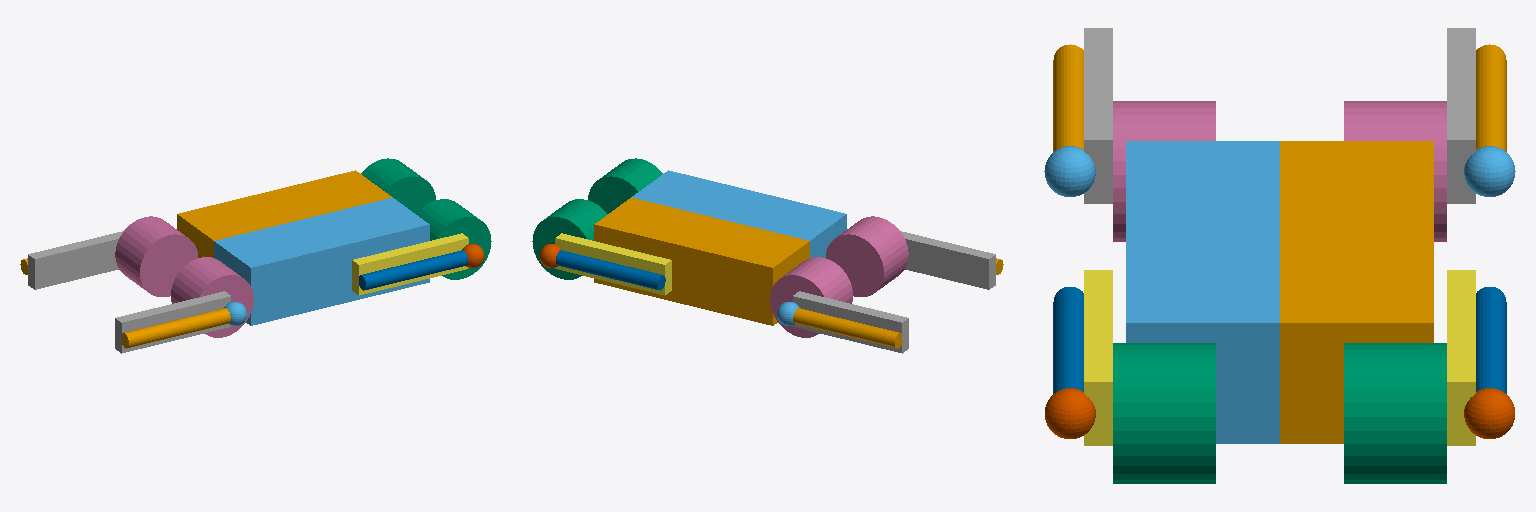
--- Facts derived from the render (not from the file) ---
The picture shows the robot from 3 angles, left to right: view 1: azimuth 30°, elevation 25°; view 2: azimuth 150°, elevation 25°; view 3: azimuth 270°, elevation 25°; orthographic projection.
Model spirit with 19 links and 18 joints (13 revolute, 5 fixed), rooted at body, posed every joint at zero.
Visible links, largest first — view 1: body2, body, hip1, upper1, hip3, upper2, upper3, hip2, hip0, lower2, lower3; view 2: body, body2, hip3, upper3, hip1, upper0, upper1, hip0, hip2, lower0, lower1; view 3: body, body2, hip0, hip2, hip1, hip3, upper0, upper2, upper1, upper3, lower1, lower3 (+6 smaller).
Boxes of the visible links, box(x1,y1,x2,y2) form: body2: box(214, 197, 429, 325); body: box(177, 170, 391, 257); hip1: box(115, 216, 197, 296); upper1: box(28, 231, 123, 289); hip3: box(171, 257, 253, 337); upper2: box(352, 233, 468, 295); upper3: box(115, 291, 230, 353); hip2: box(416, 199, 491, 279); hip0: box(361, 158, 435, 213); lower2: box(359, 250, 467, 290); lower3: box(121, 308, 230, 348); body: box(594, 197, 809, 325); body2: box(632, 170, 846, 257); hip3: box(826, 216, 908, 296); upper3: box(900, 231, 995, 289); hip1: box(770, 257, 852, 337); upper0: box(555, 233, 671, 295); upper1: box(793, 291, 908, 353); hip0: box(532, 199, 607, 279); hip2: box(588, 158, 662, 213); lower0: box(556, 250, 665, 290); lower1: box(793, 308, 902, 348); body: box(1280, 141, 1433, 443); body2: box(1126, 141, 1279, 443); hip0: box(1344, 343, 1446, 483); hip2: box(1113, 343, 1215, 483); hip1: box(1344, 101, 1446, 241); hip3: box(1113, 101, 1215, 241); upper0: box(1447, 270, 1475, 445); upper2: box(1084, 270, 1112, 445); upper1: box(1447, 28, 1475, 203); upper3: box(1084, 28, 1112, 203); lower1: box(1476, 44, 1506, 151); lower3: box(1053, 44, 1083, 151).
Size in the robot's own frame: 0.706 by 0.366 by 0.11 metres.
Geometry: primitives only (box / cylinder / sphere), no mesh files.

The robot description file, URDF, robot "spirit":
<?xml version="1.0" encoding="utf-8"?>
<!-- =================================================================================== -->
<!-- |    This document was autogenerated by xacro from xacro/spine_robot_alt.urdf.xacro | -->
<!-- |    EDITING THIS FILE BY HAND IS NOT RECOMMENDED                                 | -->
<!-- =================================================================================== -->
<!-- 
MIT License (modified)
Copyright (c) 2020 Ghost Robotics
Authors:
Avik De <[email redacted]>
Tom Jacobs <[email redacted]>
Permission is hereby granted, free of charge, to any person obtaining a copy
of this **file** (the "Software"), to deal
in the Software without restriction, including without limitation the rights
to use, copy, modify, merge, publish, distribute, sublicense, and/or sell
copies of the Software, and to permit persons to whom the Software is
furnished to do so, subject to the following conditions:
The above copyright notice and this permission notice shall be included in all
copies or substantial portions of the Software.
THE SOFTWARE IS PROVIDED "AS IS", WITHOUT WARRANTY OF ANY KIND, EXPRESS OR
IMPLIED, INCLUDING BUT NOT LIMITED TO THE WARRANTIES OF MERCHANTABILITY,
FITNESS FOR A PARTICULAR PURPOSE AND NONINFRINGEMENT. IN NO EVENT SHALL THE
AUTHORS OR COPYRIGHT HOLDERS BE LIABLE FOR ANY CLAIM, DAMAGES OR OTHER
LIABILITY, WHETHER IN AN ACTION OF CONTRACT, TORT OR OTHERWISE, ARISING FROM,
OUT OF OR IN CONNECTION WITH THE SOFTWARE OR THE USE OR OTHER DEALINGS IN THE
SOFTWARE. 
-->
<robot name="spirit">
  <!-- Body -->
  <link name="body">
    <visual>
      <origin rpy="0 0 0" xyz="0 0.06 0"/>
      <geometry>
        <box size="0.335 0.12 0.104"/>
      </geometry>
      <material name="darkgray"/>
    </visual>
    <inertial>
      <origin rpy="0 0 0" xyz="0 0.06 0"/>
      <mass value="2.875"/>
      <!-- Uniform box -->
      <!-- <inertia ixx="1/12*${bodyMass}*(${bodyWidth}*${bodyWidth} + ${bodyHeight}*${bodyHeight})"  ixy="0"  ixz="0" iyy="1/12*${bodyMass}*(${bodyLength}*${bodyLength} + ${bodyHeight}*${bodyHeight})" iyz="0" izz="1/12*${bodyMass}*(${bodyLength}*${bodyLength} + ${bodyWidth}*${bodyWidth})"/> -->
      <inertia ixx="0.05" ixy="0" ixz="0" iyy="0.1" iyz="0" izz="0.1"/>
    </inertial>
    <!-- Just copy geometry for collision -->
    <collision>
      <origin rpy="0 0 0" xyz="0 0.06 0"/>
      <geometry>
        <box size="0.1675 0.24 0.104"/>
        <!-- <uri>model:///meshes/Spirit40_Body_Mesh_transformed.stl</uri> -->
      </geometry>
    </collision>
  </link>
  <gazebo reference="body">
    <material>Gazebo/Black</material>
    <gravity>true</gravity>
  </gazebo>
  <link name="body2">
    <visual>
      <origin rpy="0 0 0" xyz="0 -0.06 0"/>
      <geometry>
        <box size="0.335 0.12 0.104"/>
      </geometry>
      <material name="darkgray"/>
    </visual>
    <inertial>
      <origin rpy="0 0 0" xyz="0 -0.06 0"/>
      <mass value="2.875"/>
      <!-- Uniform box -->
      <!-- <inertia ixx="1/12*${bodyMass}*(${bodyWidth}*${bodyWidth} + ${bodyHeight}*${bodyHeight})"  ixy="0"  ixz="0" iyy="1/12*${bodyMass}*(${bodyLength}*${bodyLength} + ${bodyHeight}*${bodyHeight})" iyz="0" izz="1/12*${bodyMass}*(${bodyLength}*${bodyLength} + ${bodyWidth}*${bodyWidth})"/> -->
      <inertia ixx="0.05" ixy="0" ixz="0" iyy="0.1" iyz="0" izz="0.1"/>
    </inertial>
    <!-- Just copy geometry for collision -->
    <collision>
      <origin rpy="0 0 0" xyz="0 -0.06 0"/>
      <geometry>
        <box size="0.1675 0.24 0.104"/>
        <!-- <uri>model:///meshes/Spirit40_Body_Mesh_transformed.stl</uri> -->
      </geometry>
    </collision>
  </link>
  <gazebo reference="body2">
    <material>Gazebo/Grey</material>
    <gravity>true</gravity>
  </gazebo>
  <!-- Hip motor -->
  <link name="hip0">
    <visual>
      <origin rpy="1.5707963268 0 0" xyz="0 0.028 0"/>
      <geometry>
        <cylinder length="0.08" radius="0.055"/>
      </geometry>
    </visual>
    <collision>
      <origin rpy="1.5707963268 0 0" xyz="0 0.028 0"/>
      <geometry>
        Radius
					
        <!-- <cylinder length="${podLength}" radius="${podRadius}"/> -->
        <box size="0.11 0.11 0.08"/>
      </geometry>
    </collision>
    <inertial>
      <!-- <origin rpy="${pi/2} 0 0" xyz="0 ${left * (dPodAxisToEdge)} 0"/> -->
      <origin rpy="0 0 0" xyz="0 0.028 0"/>
      <mass value="0.575"/>
      <!-- <inertia ixx="1/12*${podMass}*${podLength}*${podLength} + 1/4*${podMass}*${podRadius}*${podRadius}"  ixy="0"  ixz="0" iyy="1/12*${podMass}*${podLength}*${podLength} + 1/4*${podMass}*${podRadius}*${podRadius}" iyz="0" izz="1/2*${podMass}*${podRadius}*$
				{podRadius}" /> -->
      <inertia ixx="0.00066963541" ixy="0" ixz="0" iyy="0.00066963541" iyz="0" izz="0.0008696875"/>
    </inertial>
  </link>
  <gazebo reference="hip0">
    <material>Gazebo/Grey</material>
  </gazebo>
  <!-- Upper leg -->
  <link name="upper0">
    <visual>
      <origin rpy="0 0 0" xyz="-0.103 -0.022 0"/>
      <geometry>
        <box size="0.206 0.022 0.055"/>
      </geometry>
      <material name="silver"/>
    </visual>
    <collision>
      <origin rpy="0 0 0" xyz="-0.103 -0.022 0"/>
      <geometry>
        <box size="0.206 0.022 0.055"/>
      </geometry>
    </collision>
    <inertial>
      <origin rpy="0 0 0" xyz="-0.103 -0.022 0"/>
      <mass value="0.775"/>
      <inertia ixx="5e-05" ixy="0" ixz="0" iyy="0.001" iyz="0" izz="0.001"/>
    </inertial>
  </link>
  <gazebo reference="upper0">
    <material>Gazebo/DarkGrey</material>
  </gazebo>
  <!-- Abduction joint. Joint names are: 8 9 10 11 -->
  <joint name="8" type="revolute">
    <!-- <parent link="body"/> -->
    <parent link="body"/>
    <child link="hip0"/>
    <axis xyz="1 0 0"/>
    <origin xyz="0.2225 0.062 0"/>
    <!-- <origin xyz="${front * dx} ${left * dy} 0"/> -->
    <!-- <origin xyz="${front *bodyLength/2+front * podRadius} ${left *bodyWidth/2} 0"/> -->
    <limit effort="40" lower="-0.707" upper="0.707" velocity="30"/>
    <dynamics damping="0.0" friction="0.0"/>
  </joint>
  <!-- Transmission elements required for Gazebo -->
  <transmission name="transmission_8">
    <type>transmission_interface/SimpleTransmission</type>
    <joint name="8">
      <hardwareInterface>hardware_interface/EffortJointInterface</hardwareInterface>
    </joint>
    <actuator name="motor_8">
      <hardwareInterface>EffortJointInterface</hardwareInterface>
      <mechanicalReduction>1</mechanicalReduction>
    </actuator>
  </transmission>
  <!-- Hip joint. (Motor to upper leg). Joint names are: 0 2 4 6 -->
  <joint name="0" type="revolute">
    <parent link="hip0"/>
    <child link="upper0"/>
    <axis xyz="0 -1 0"/>
    <origin xyz="0 0.10098 0"/>
    <!--  rpy="0 -0.3 0" -->
    <limit effort="40" lower="-6.28318530718" upper="6.28318530718" velocity="30"/>
    <dynamics damping="0.0" friction="0.0"/>
  </joint>
  <!-- Transmission elements required for Gazebo -->
  <transmission name="transmission_0">
    <type>transmission_interface/SimpleTransmission</type>
    <joint name="0">
      <hardwareInterface>hardware_interface/EffortJointInterface</hardwareInterface>
    </joint>
    <actuator name="motor_0">
      <hardwareInterface>EffortJointInterface</hardwareInterface>
      <mechanicalReduction>1</mechanicalReduction>
    </actuator>
  </transmission>
  <!-- Lower leg -->
  <link name="lower0">
    <visual>
      <origin rpy="0 1.5707963268 0" xyz="0.103 0 0"/>
      <geometry>
        <cylinder length="0.206" radius="0.013"/>
      </geometry>
      <material name="darkgray"/>
    </visual>
    <collision>
      <origin rpy="0 1.5707963268 0" xyz="0.103 0 0"/>
      <geometry>
        <cylinder length="0.206" radius="0.013"/>
      </geometry>
    </collision>
    <inertial>
      <origin rpy="0 1.5707963268 0" xyz="0.103 0 0"/>
      <mass value="0.075"/>
      <inertia ixx="5e-06" ixy="0" ixz="0" iyy="0.0001" iyz="0" izz="0.0001"/>
    </inertial>
  </link>
  <gazebo reference="lower0">
    <material>Gazebo/Grey</material>
  </gazebo>
  <!-- Knee joint. Joint names are: 1 3 5 7 -->
  <joint name="1" type="revolute">
    <parent link="upper0"/>
    <child link="lower0"/>
    <axis xyz="0 1 0"/>
    <origin xyz="-0.206 0 0"/>
    <!--rpy="0 0.5 0"-->
    <limit effort="40" lower="0" upper="3.14159265359" velocity="30"/>
    <dynamics damping="0.0" friction="0.0"/>
  </joint>
  <!-- Transmission elements required for Gazebo -->
  <transmission name="transmission_1">
    <type>transmission_interface/SimpleTransmission</type>
    <joint name="1">
      <hardwareInterface>hardware_interface/EffortJointInterface</hardwareInterface>
    </joint>
    <actuator name="motor_1">
      <hardwareInterface>EffortJointInterface</hardwareInterface>
      <mechanicalReduction>1</mechanicalReduction>
    </actuator>
  </transmission>
  <!-- Toe -->
  <link name="toe0">
    <contact>
      <friction_anchor/>
      <stiffness value="30000.0"/>
      <damping value="1000.0"/>
      <spinning_friction value="0.3"/>
      <lateral_friction value="50.0"/>
    </contact>
    <visual>
      <origin rpy="0 0 0" xyz="0 0 0"/>
      <geometry>
        <sphere radius="0.02"/>
      </geometry>
      <material name="darkgray"/>
    </visual>
    <collision>
      <origin rpy="0 0 0" xyz="0 0 0"/>
      <geometry>
        <sphere radius="0.02"/>
      </geometry>
    </collision>
    <inertial>
      <mass value="0.015"/>
      <inertia ixx="0.000025" ixy="0" ixz="0" iyy="0.000025" iyz="0" izz="0.000025"/>
      <!-- <inertia ixx="2/5*${toeMass}*${toeRadius}*${toeRadius}"  ixy="0"  ixz="0" iyy="2/5*${toeMass}*${toeRadius}*${toeRadius}" iyz="0" izz="2/5*${toeMass}*${toeRadius}*${toeRadius}" /> -->
    </inertial>
  </link>
  <gazebo reference="toe0">
    <material>Gazebo/Black</material>
    <collision>
      <surface>
        <bounce>
          <restitution_coefficient>0</restitution_coefficient>
          <threshold>1e+06</threshold>
        </bounce>
        <friction>
          <torsional>
            <coefficient>0.3</coefficient>
          </torsional>
          <ode>
            <mu>100.0</mu>
            <mu2>50.0</mu2>
          </ode>
          <bullet>
            <rolling_friction>0.3</rolling_friction>
            <friction2>50.0</friction2>
          </bullet>
        </friction>
        <contact>
          <bullet>
            <kp>30000.0</kp>
            <kd>1000.0</kd>
          </bullet>
          <ode>
            <kp>30000.0</kp>
            <kd>1000.0</kd>
          </ode>
        </contact>
      </surface>
    </collision>
    <sensor name="toe0_contact" type="contact">
      <plugin filename="libgazebo_ros_bumper.so" name="toe0_plugin">
        <alwaysOn>1</alwaysOn>
        <updateRate>1000</updateRate>
        <bumperTopicName>gazebo/toe0_contact_state</bumperTopicName>
        <frameName>world</frameName>
        <robotNamespace>/</robotNamespace>
      </plugin>
      <contact>
        <collision>toe0_collision</collision>
        <topic>__default_topic__</topic>
      </contact>
      <update_rate>1000</update_rate>
    </sensor>
  </gazebo>
  <!-- Hip motor -->
  <link name="hip1">
    <visual>
      <origin rpy="1.5707963268 0 0" xyz="0 0.028 0"/>
      <geometry>
        <cylinder length="0.08" radius="0.055"/>
      </geometry>
    </visual>
    <collision>
      <origin rpy="1.5707963268 0 0" xyz="0 0.028 0"/>
      <geometry>
        Radius
					
        <!-- <cylinder length="${podLength}" radius="${podRadius}"/> -->
        <box size="0.11 0.11 0.08"/>
      </geometry>
    </collision>
    <inertial>
      <!-- <origin rpy="${pi/2} 0 0" xyz="0 ${left * (dPodAxisToEdge)} 0"/> -->
      <origin rpy="0 0 0" xyz="0 0.028 0"/>
      <mass value="0.575"/>
      <!-- <inertia ixx="1/12*${podMass}*${podLength}*${podLength} + 1/4*${podMass}*${podRadius}*${podRadius}"  ixy="0"  ixz="0" iyy="1/12*${podMass}*${podLength}*${podLength} + 1/4*${podMass}*${podRadius}*${podRadius}" iyz="0" izz="1/2*${podMass}*${podRadius}*$
				{podRadius}" /> -->
      <inertia ixx="0.00066963541" ixy="0" ixz="0" iyy="0.00066963541" iyz="0" izz="0.0008696875"/>
    </inertial>
  </link>
  <gazebo reference="hip1">
    <material>Gazebo/Grey</material>
  </gazebo>
  <!-- Upper leg -->
  <link name="upper1">
    <visual>
      <origin rpy="0 0 0" xyz="-0.103 -0.022 0"/>
      <geometry>
        <box size="0.206 0.022 0.055"/>
      </geometry>
      <material name="silver"/>
    </visual>
    <collision>
      <origin rpy="0 0 0" xyz="-0.103 -0.022 0"/>
      <geometry>
        <box size="0.206 0.022 0.055"/>
      </geometry>
    </collision>
    <inertial>
      <origin rpy="0 0 0" xyz="-0.103 -0.022 0"/>
      <mass value="0.775"/>
      <inertia ixx="5e-05" ixy="0" ixz="0" iyy="0.001" iyz="0" izz="0.001"/>
    </inertial>
  </link>
  <gazebo reference="upper1">
    <material>Gazebo/DarkGrey</material>
  </gazebo>
  <!-- Abduction joint. Joint names are: 8 9 10 11 -->
  <joint name="9" type="revolute">
    <!-- <parent link="body"/> -->
    <parent link="body"/>
    <child link="hip1"/>
    <axis xyz="1 0 0"/>
    <origin xyz="-0.2225 0.062 0"/>
    <!-- <origin xyz="${front * dx} ${left * dy} 0"/> -->
    <!-- <origin xyz="${front *bodyLength/2+front * podRadius} ${left *bodyWidth/2} 0"/> -->
    <limit effort="40" lower="-0.707" upper="0.707" velocity="30"/>
    <dynamics damping="0.0" friction="0.0"/>
  </joint>
  <!-- Transmission elements required for Gazebo -->
  <transmission name="transmission_9">
    <type>transmission_interface/SimpleTransmission</type>
    <joint name="9">
      <hardwareInterface>hardware_interface/EffortJointInterface</hardwareInterface>
    </joint>
    <actuator name="motor_9">
      <hardwareInterface>EffortJointInterface</hardwareInterface>
      <mechanicalReduction>1</mechanicalReduction>
    </actuator>
  </transmission>
  <!-- Hip joint. (Motor to upper leg). Joint names are: 0 2 4 6 -->
  <joint name="2" type="revolute">
    <parent link="hip1"/>
    <child link="upper1"/>
    <axis xyz="0 -1 0"/>
    <origin xyz="0 0.10098 0"/>
    <!--  rpy="0 -0.3 0" -->
    <limit effort="40" lower="-6.28318530718" upper="6.28318530718" velocity="30"/>
    <dynamics damping="0.0" friction="0.0"/>
  </joint>
  <!-- Transmission elements required for Gazebo -->
  <transmission name="transmission_2">
    <type>transmission_interface/SimpleTransmission</type>
    <joint name="2">
      <hardwareInterface>hardware_interface/EffortJointInterface</hardwareInterface>
    </joint>
    <actuator name="motor_2">
      <hardwareInterface>EffortJointInterface</hardwareInterface>
      <mechanicalReduction>1</mechanicalReduction>
    </actuator>
  </transmission>
  <!-- Lower leg -->
  <link name="lower1">
    <visual>
      <origin rpy="0 1.5707963268 0" xyz="0.103 0 0"/>
      <geometry>
        <cylinder length="0.206" radius="0.013"/>
      </geometry>
      <material name="darkgray"/>
    </visual>
    <collision>
      <origin rpy="0 1.5707963268 0" xyz="0.103 0 0"/>
      <geometry>
        <cylinder length="0.206" radius="0.013"/>
      </geometry>
    </collision>
    <inertial>
      <origin rpy="0 1.5707963268 0" xyz="0.103 0 0"/>
      <mass value="0.075"/>
      <inertia ixx="5e-06" ixy="0" ixz="0" iyy="0.0001" iyz="0" izz="0.0001"/>
    </inertial>
  </link>
  <gazebo reference="lower1">
    <material>Gazebo/Grey</material>
  </gazebo>
  <!-- Knee joint. Joint names are: 1 3 5 7 -->
  <joint name="3" type="revolute">
    <parent link="upper1"/>
    <child link="lower1"/>
    <axis xyz="0 1 0"/>
    <origin xyz="-0.206 0 0"/>
    <!--rpy="0 0.5 0"-->
    <limit effort="40" lower="0" upper="3.14159265359" velocity="30"/>
    <dynamics damping="0.0" friction="0.0"/>
  </joint>
  <!-- Transmission elements required for Gazebo -->
  <transmission name="transmission_3">
    <type>transmission_interface/SimpleTransmission</type>
    <joint name="3">
      <hardwareInterface>hardware_interface/EffortJointInterface</hardwareInterface>
    </joint>
    <actuator name="motor_3">
      <hardwareInterface>EffortJointInterface</hardwareInterface>
      <mechanicalReduction>1</mechanicalReduction>
    </actuator>
  </transmission>
  <!-- Toe -->
  <link name="toe1">
    <contact>
      <friction_anchor/>
      <stiffness value="30000.0"/>
      <damping value="1000.0"/>
      <spinning_friction value="0.3"/>
      <lateral_friction value="50.0"/>
    </contact>
    <visual>
      <origin rpy="0 0 0" xyz="0 0 0"/>
      <geometry>
        <sphere radius="0.02"/>
      </geometry>
      <material name="darkgray"/>
    </visual>
    <collision>
      <origin rpy="0 0 0" xyz="0 0 0"/>
      <geometry>
        <sphere radius="0.02"/>
      </geometry>
    </collision>
    <inertial>
      <mass value="0.015"/>
      <inertia ixx="0.000025" ixy="0" ixz="0" iyy="0.000025" iyz="0" izz="0.000025"/>
      <!-- <inertia ixx="2/5*${toeMass}*${toeRadius}*${toeRadius}"  ixy="0"  ixz="0" iyy="2/5*${toeMass}*${toeRadius}*${toeRadius}" iyz="0" izz="2/5*${toeMass}*${toeRadius}*${toeRadius}" /> -->
    </inertial>
  </link>
  <gazebo reference="toe1">
    <material>Gazebo/Black</material>
    <collision>
      <surface>
        <bounce>
          <restitution_coefficient>0</restitution_coefficient>
          <threshold>1e+06</threshold>
        </bounce>
        <friction>
          <torsional>
            <coefficient>0.3</coefficient>
          </torsional>
          <ode>
            <mu>100.0</mu>
            <mu2>50.0</mu2>
          </ode>
          <bullet>
            <rolling_friction>0.3</rolling_friction>
            <friction2>50.0</friction2>
          </bullet>
        </friction>
        <contact>
          <bullet>
            <kp>30000.0</kp>
            <kd>1000.0</kd>
          </bullet>
          <ode>
            <kp>30000.0</kp>
            <kd>1000.0</kd>
          </ode>
        </contact>
      </surface>
    </collision>
    <sensor name="toe1_contact" type="contact">
      <plugin filename="libgazebo_ros_bumper.so" name="toe1_plugin">
        <alwaysOn>1</alwaysOn>
        <updateRate>1000</updateRate>
        <bumperTopicName>gazebo/toe1_contact_state</bumperTopicName>
        <frameName>world</frameName>
        <robotNamespace>/</robotNamespace>
      </plugin>
      <contact>
        <collision>toe1_collision</collision>
        <topic>__default_topic__</topic>
      </contact>
      <update_rate>1000</update_rate>
    </sensor>
  </gazebo>
  <!-- Hip motor -->
  <link name="hip2">
    <visual>
      <origin rpy="1.5707963268 0 0" xyz="0 -0.028 0"/>
      <geometry>
        <cylinder length="0.08" radius="0.055"/>
      </geometry>
    </visual>
    <collision>
      <origin rpy="1.5707963268 0 0" xyz="0 -0.028 0"/>
      <geometry>
        Radius
					
        <!-- <cylinder length="${podLength}" radius="${podRadius}"/> -->
        <box size="0.11 0.11 0.08"/>
      </geometry>
    </collision>
    <inertial>
      <!-- <origin rpy="${pi/2} 0 0" xyz="0 ${left * (dPodAxisToEdge)} 0"/> -->
      <origin rpy="0 0 0" xyz="0 -0.028 0"/>
      <mass value="0.575"/>
      <!-- <inertia ixx="1/12*${podMass}*${podLength}*${podLength} + 1/4*${podMass}*${podRadius}*${podRadius}"  ixy="0"  ixz="0" iyy="1/12*${podMass}*${podLength}*${podLength} + 1/4*${podMass}*${podRadius}*${podRadius}" iyz="0" izz="1/2*${podMass}*${podRadius}*$
				{podRadius}" /> -->
      <inertia ixx="0.00066963541" ixy="0" ixz="0" iyy="0.00066963541" iyz="0" izz="0.0008696875"/>
    </inertial>
  </link>
  <gazebo reference="hip2">
    <material>Gazebo/Grey</material>
  </gazebo>
  <!-- Upper leg -->
  <link name="upper2">
    <visual>
      <origin rpy="0 0 0" xyz="-0.103 0.022 0"/>
      <geometry>
        <box size="0.206 0.022 0.055"/>
      </geometry>
      <material name="silver"/>
    </visual>
    <collision>
      <origin rpy="0 0 0" xyz="-0.103 0.022 0"/>
      <geometry>
        <box size="0.206 0.022 0.055"/>
      </geometry>
    </collision>
    <inertial>
      <origin rpy="0 0 0" xyz="-0.103 0.022 0"/>
      <mass value="0.775"/>
      <inertia ixx="5e-05" ixy="0" ixz="0" iyy="0.001" iyz="0" izz="0.001"/>
    </inertial>
  </link>
  <gazebo reference="upper2">
    <material>Gazebo/DarkGrey</material>
  </gazebo>
  <!-- Abduction joint. Joint names are: 8 9 10 11 -->
  <joint name="10" type="revolute">
    <!-- <parent link="body"/> -->
    <parent link="body2"/>
    <child link="hip2"/>
    <axis xyz="1 0 0"/>
    <origin xyz="0.2225 -0.062 0"/>
    <!-- <origin xyz="${front * dx} ${left * dy} 0"/> -->
    <!-- <origin xyz="${front *bodyLength/2+front * podRadius} ${left *bodyWidth/2} 0"/> -->
    <limit effort="40" lower="-0.707" upper="0.707" velocity="30"/>
    <dynamics damping="0.0" friction="0.0"/>
  </joint>
  <!-- Transmission elements required for Gazebo -->
  <transmission name="transmission_10">
    <type>transmission_interface/SimpleTransmission</type>
    <joint name="10">
      <hardwareInterface>hardware_interface/EffortJointInterface</hardwareInterface>
    </joint>
    <actuator name="motor_10">
      <hardwareInterface>EffortJointInterface</hardwareInterface>
      <mechanicalReduction>1</mechanicalReduction>
    </actuator>
  </transmission>
  <!-- Hip joint. (Motor to upper leg). Joint names are: 0 2 4 6 -->
  <joint name="4" type="revolute">
    <parent link="hip2"/>
    <child link="upper2"/>
    <axis xyz="0 -1 0"/>
    <origin xyz="0 -0.10098 0"/>
    <!--  rpy="0 -0.3 0" -->
    <limit effort="40" lower="-6.28318530718" upper="6.28318530718" velocity="30"/>
    <dynamics damping="0.0" friction="0.0"/>
  </joint>
  <!-- Transmission elements required for Gazebo -->
  <transmission name="transmission_4">
    <type>transmission_interface/SimpleTransmission</type>
    <joint name="4">
      <hardwareInterface>hardware_interface/EffortJointInterface</hardwareInterface>
    </joint>
    <actuator name="motor_4">
      <hardwareInterface>EffortJointInterface</hardwareInterface>
      <mechanicalReduction>1</mechanicalReduction>
    </actuator>
  </transmission>
  <!-- Lower leg -->
  <link name="lower2">
    <visual>
      <origin rpy="0 1.5707963268 0" xyz="0.103 0 0"/>
      <geometry>
        <cylinder length="0.206" radius="0.013"/>
      </geometry>
      <material name="darkgray"/>
    </visual>
    <collision>
      <origin rpy="0 1.5707963268 0" xyz="0.103 0 0"/>
      <geometry>
        <cylinder length="0.206" radius="0.013"/>
      </geometry>
    </collision>
    <inertial>
      <origin rpy="0 1.5707963268 0" xyz="0.103 0 0"/>
      <mass value="0.075"/>
      <inertia ixx="5e-06" ixy="0" ixz="0" iyy="0.0001" iyz="0" izz="0.0001"/>
    </inertial>
  </link>
  <gazebo reference="lower2">
    <material>Gazebo/Grey</material>
  </gazebo>
  <!-- Knee joint. Joint names are: 1 3 5 7 -->
  <joint name="5" type="revolute">
    <parent link="upper2"/>
    <child link="lower2"/>
    <axis xyz="0 1 0"/>
    <origin xyz="-0.206 0 0"/>
    <!--rpy="0 0.5 0"-->
    <limit effort="40" lower="0" upper="3.14159265359" velocity="30"/>
    <dynamics damping="0.0" friction="0.0"/>
  </joint>
  <!-- Transmission elements required for Gazebo -->
  <transmission name="transmission_5">
    <type>transmission_interface/SimpleTransmission</type>
    <joint name="5">
      <hardwareInterface>hardware_interface/EffortJointInterface</hardwareInterface>
    </joint>
    <actuator name="motor_5">
      <hardwareInterface>EffortJointInterface</hardwareInterface>
      <mechanicalReduction>1</mechanicalReduction>
    </actuator>
  </transmission>
  <!-- Toe -->
  <link name="toe2">
    <contact>
      <friction_anchor/>
      <stiffness value="30000.0"/>
      <damping value="1000.0"/>
      <spinning_friction value="0.3"/>
      <lateral_friction value="50.0"/>
    </contact>
    <visual>
      <origin rpy="0 0 0" xyz="0 0 0"/>
      <geometry>
        <sphere radius="0.02"/>
      </geometry>
      <material name="darkgray"/>
    </visual>
    <collision>
      <origin rpy="0 0 0" xyz="0 0 0"/>
      <geometry>
        <sphere radius="0.02"/>
      </geometry>
    </collision>
    <inertial>
      <mass value="0.015"/>
      <inertia ixx="0.000025" ixy="0" ixz="0" iyy="0.000025" iyz="0" izz="0.000025"/>
      <!-- <inertia ixx="2/5*${toeMass}*${toeRadius}*${toeRadius}"  ixy="0"  ixz="0" iyy="2/5*${toeMass}*${toeRadius}*${toeRadius}" iyz="0" izz="2/5*${toeMass}*${toeRadius}*${toeRadius}" /> -->
    </inertial>
  </link>
  <gazebo reference="toe2">
    <material>Gazebo/Black</material>
    <collision>
      <surface>
        <bounce>
          <restitution_coefficient>0</restitution_coefficient>
          <threshold>1e+06</threshold>
        </bounce>
        <friction>
          <torsional>
            <coefficient>0.3</coefficient>
          </torsional>
          <ode>
            <mu>100.0</mu>
            <mu2>50.0</mu2>
          </ode>
          <bullet>
            <rolling_friction>0.3</rolling_friction>
            <friction2>50.0</friction2>
          </bullet>
        </friction>
        <contact>
          <bullet>
            <kp>30000.0</kp>
            <kd>1000.0</kd>
          </bullet>
          <ode>
            <kp>30000.0</kp>
            <kd>1000.0</kd>
          </ode>
        </contact>
      </surface>
    </collision>
    <sensor name="toe2_contact" type="contact">
      <plugin filename="libgazebo_ros_bumper.so" name="toe2_plugin">
        <alwaysOn>1</alwaysOn>
        <updateRate>1000</updateRate>
        <bumperTopicName>gazebo/toe2_contact_state</bumperTopicName>
        <frameName>world</frameName>
        <robotNamespace>/</robotNamespace>
      </plugin>
      <contact>
        <collision>toe2_collision</collision>
        <topic>__default_topic__</topic>
      </contact>
      <update_rate>1000</update_rate>
    </sensor>
  </gazebo>
  <!-- Hip motor -->
  <link name="hip3">
    <visual>
      <origin rpy="1.5707963268 0 0" xyz="0 -0.028 0"/>
      <geometry>
        <cylinder length="0.08" radius="0.055"/>
      </geometry>
    </visual>
    <collision>
      <origin rpy="1.5707963268 0 0" xyz="0 -0.028 0"/>
      <geometry>
        Radius
					
        <!-- <cylinder length="${podLength}" radius="${podRadius}"/> -->
        <box size="0.11 0.11 0.08"/>
      </geometry>
    </collision>
    <inertial>
      <!-- <origin rpy="${pi/2} 0 0" xyz="0 ${left * (dPodAxisToEdge)} 0"/> -->
      <origin rpy="0 0 0" xyz="0 -0.028 0"/>
      <mass value="0.575"/>
      <!-- <inertia ixx="1/12*${podMass}*${podLength}*${podLength} + 1/4*${podMass}*${podRadius}*${podRadius}"  ixy="0"  ixz="0" iyy="1/12*${podMass}*${podLength}*${podLength} + 1/4*${podMass}*${podRadius}*${podRadius}" iyz="0" izz="1/2*${podMass}*${podRadius}*$
				{podRadius}" /> -->
      <inertia ixx="0.00066963541" ixy="0" ixz="0" iyy="0.00066963541" iyz="0" izz="0.0008696875"/>
    </inertial>
  </link>
  <gazebo reference="hip3">
    <material>Gazebo/Grey</material>
  </gazebo>
  <!-- Upper leg -->
  <link name="upper3">
    <visual>
      <origin rpy="0 0 0" xyz="-0.103 0.022 0"/>
      <geometry>
        <box size="0.206 0.022 0.055"/>
      </geometry>
      <material name="silver"/>
    </visual>
    <collision>
      <origin rpy="0 0 0" xyz="-0.103 0.022 0"/>
      <geometry>
        <box size="0.206 0.022 0.055"/>
      </geometry>
    </collision>
    <inertial>
      <origin rpy="0 0 0" xyz="-0.103 0.022 0"/>
      <mass value="0.775"/>
      <inertia ixx="5e-05" ixy="0" ixz="0" iyy="0.001" iyz="0" izz="0.001"/>
    </inertial>
  </link>
  <gazebo reference="upper3">
    <material>Gazebo/DarkGrey</material>
  </gazebo>
  <!-- Abduction joint. Joint names are: 8 9 10 11 -->
  <joint name="11" type="revolute">
    <!-- <parent link="body"/> -->
    <parent link="body2"/>
    <child link="hip3"/>
    <axis xyz="1 0 0"/>
    <origin xyz="-0.2225 -0.062 0"/>
    <!-- <origin xyz="${front * dx} ${left * dy} 0"/> -->
    <!-- <origin xyz="${front *bodyLength/2+front * podRadius} ${left *bodyWidth/2} 0"/> -->
    <limit effort="40" lower="-0.707" upper="0.707" velocity="30"/>
    <dynamics damping="0.0" friction="0.0"/>
  </joint>
  <!-- Transmission elements required for Gazebo -->
  <transmission name="transmission_11">
    <type>transmission_interface/SimpleTransmission</type>
    <joint name="11">
      <hardwareInterface>hardware_interface/EffortJointInterface</hardwareInterface>
    </joint>
    <actuator name="motor_11">
      <hardwareInterface>EffortJointInterface</hardwareInterface>
      <mechanicalReduction>1</mechanicalReduction>
    </actuator>
  </transmission>
  <!-- Hip joint. (Motor to upper leg). Joint names are: 0 2 4 6 -->
  <joint name="6" type="revolute">
    <parent link="hip3"/>
    <child link="upper3"/>
    <axis xyz="0 -1 0"/>
    <origin xyz="0 -0.10098 0"/>
    <!--  rpy="0 -0.3 0" -->
    <limit effort="40" lower="-6.28318530718" upper="6.28318530718" velocity="30"/>
    <dynamics damping="0.0" friction="0.0"/>
  </joint>
  <!-- Transmission elements required for Gazebo -->
  <transmission name="transmission_6">
    <type>transmission_interface/SimpleTransmission</type>
    <joint name="6">
      <hardwareInterface>hardware_interface/EffortJointInterface</hardwareInterface>
    </joint>
    <actuator name="motor_6">
      <hardwareInterface>EffortJointInterface</hardwareInterface>
      <mechanicalReduction>1</mechanicalReduction>
    </actuator>
  </transmission>
  <!-- Lower leg -->
  <link name="lower3">
    <visual>
      <origin rpy="0 1.5707963268 0" xyz="0.103 0 0"/>
      <geometry>
        <cylinder length="0.206" radius="0.013"/>
      </geometry>
      <material name="darkgray"/>
    </visual>
    <collision>
      <origin rpy="0 1.5707963268 0" xyz="0.103 0 0"/>
      <geometry>
        <cylinder length="0.206" radius="0.013"/>
      </geometry>
    </collision>
    <inertial>
      <origin rpy="0 1.5707963268 0" xyz="0.103 0 0"/>
      <mass value="0.075"/>
      <inertia ixx="5e-06" ixy="0" ixz="0" iyy="0.0001" iyz="0" izz="0.0001"/>
    </inertial>
  </link>
  <gazebo reference="lower3">
    <material>Gazebo/Grey</material>
  </gazebo>
  <!-- Knee joint. Joint names are: 1 3 5 7 -->
  <joint name="7" type="revolute">
    <parent link="upper3"/>
    <child link="lower3"/>
    <axis xyz="0 1 0"/>
    <origin xyz="-0.206 0 0"/>
    <!--rpy="0 0.5 0"-->
    <limit effort="40" lower="0" upper="3.14159265359" velocity="30"/>
    <dynamics damping="0.0" friction="0.0"/>
  </joint>
  <!-- Transmission elements required for Gazebo -->
  <transmission name="transmission_7">
    <type>transmission_interface/SimpleTransmission</type>
    <joint name="7">
      <hardwareInterface>hardware_interface/EffortJointInterface</hardwareInterface>
    </joint>
    <actuator name="motor_7">
      <hardwareInterface>EffortJointInterface</hardwareInterface>
      <mechanicalReduction>1</mechanicalReduction>
    </actuator>
  </transmission>
  <!-- Toe -->
  <link name="toe3">
    <contact>
      <friction_anchor/>
      <stiffness value="30000.0"/>
      <damping value="1000.0"/>
      <spinning_friction value="0.3"/>
      <lateral_friction value="50.0"/>
    </contact>
    <visual>
      <origin rpy="0 0 0" xyz="0 0 0"/>
      <geometry>
        <sphere radius="0.02"/>
      </geometry>
      <material name="darkgray"/>
    </visual>
    <collision>
      <origin rpy="0 0 0" xyz="0 0 0"/>
      <geometry>
        <sphere radius="0.02"/>
      </geometry>
    </collision>
    <inertial>
      <mass value="0.015"/>
      <inertia ixx="0.000025" ixy="0" ixz="0" iyy="0.000025" iyz="0" izz="0.000025"/>
      <!-- <inertia ixx="2/5*${toeMass}*${toeRadius}*${toeRadius}"  ixy="0"  ixz="0" iyy="2/5*${toeMass}*${toeRadius}*${toeRadius}" iyz="0" izz="2/5*${toeMass}*${toeRadius}*${toeRadius}" /> -->
    </inertial>
  </link>
  <gazebo reference="toe3">
    <material>Gazebo/Black</material>
    <collision>
      <surface>
        <bounce>
          <restitution_coefficient>0</restitution_coefficient>
          <threshold>1e+06</threshold>
        </bounce>
        <friction>
          <torsional>
            <coefficient>0.3</coefficient>
          </torsional>
          <ode>
            <mu>100.0</mu>
            <mu2>50.0</mu2>
          </ode>
          <bullet>
            <rolling_friction>0.3</rolling_friction>
            <friction2>50.0</friction2>
          </bullet>
        </friction>
        <contact>
          <bullet>
            <kp>30000.0</kp>
            <kd>1000.0</kd>
          </bullet>
          <ode>
            <kp>30000.0</kp>
            <kd>1000.0</kd>
          </ode>
        </contact>
      </surface>
    </collision>
    <sensor name="toe3_contact" type="contact">
      <plugin filename="libgazebo_ros_bumper.so" name="toe3_plugin">
        <alwaysOn>1</alwaysOn>
        <updateRate>1000</updateRate>
        <bumperTopicName>gazebo/toe3_contact_state</bumperTopicName>
        <frameName>world</frameName>
        <robotNamespace>/</robotNamespace>
      </plugin>
      <contact>
        <collision>toe3_collision</collision>
        <topic>__default_topic__</topic>
      </contact>
      <update_rate>1000</update_rate>
    </sensor>
  </gazebo>
  <link name="imu::link">
    <visual>
      <origin rpy="0 0 0" xyz="0 0 0"/>
      <geometry>
        <sphere radius="0.02"/>
      </geometry>
      <material name="gray"/>
    </visual>
    <inertial>
      <mass value="0.001"/>
      <inertia ixx="0.0001" ixy="0" ixz="0" iyy="0" iyz="0" izz="0"/>
    </inertial>
  </link>
  <gazebo reference="imu::link">
    <material>Gazebo/Gray</material>
    <sensor name="imu_sensor" type="imu">
      <always_on>1</always_on>
      <update_rate>100</update_rate>
      <visualize>1</visualize>
      <topic>__default_topic__</topic>
      <plugin filename="libgazebo_ros_imu_sensor.so" name="imu_plugin">
        <topicName>/mcu/state/imu</topicName>
        <bodyName>imu::link</bodyName>
        <robotNamespace>/</robotNamespace>
        <updateRateHZ>500.0</updateRateHZ>
        <gaussianNoise>0.0</gaussianNoise>
        <xyzOffset>0 0 0</xyzOffset>
        <rpyOffset>0 0 0</rpyOffset>
        <frameName>imu::link</frameName>
        <initialOrientationAsReference>0</initialOrientationAsReference>
      </plugin>
      <pose frame="">0 0 0 0 -0 0</pose>
      <imu/>
    </sensor>
  </gazebo>
  <joint name="spine" type="revolute">
    <parent link="body"/>
    <child link="body2"/>
    <axis xyz="1 0 0"/>
    <origin xyz="0 0 0"/>
    <limit effort="35" lower="-1" upper="1" velocity="1000000"/>
    <dynamics damping="5.0" friction="0.0"/>
  </joint>
  <!-- Transmission elements required for Gazebo -->
  <transmission name="transmission_spine">
    <type>transmission_interface/SimpleTransmission</type>
    <joint name="spine">
      <hardwareInterface>hardware_interface/EffortJointInterface</hardwareInterface>
    </joint>
    <actuator name="spine">
      <hardwareInterface>EffortJointInterface</hardwareInterface>
      <mechanicalReduction>1</mechanicalReduction>
    </actuator>
  </transmission>
  <joint name="jtoe0" type="fixed">
    <parent link="lower0"/>
    <child link="toe0"/>
    <origin xyz="0.206 0 -0.0"/>
    <dynamics damping="0.0" friction="0.0"/>
  </joint>
  <gazebo reference="jtoe0">
    <disableFixedJointLumping>1</disableFixedJointLumping>
    <preserveFixedJoint>1</preserveFixedJoint>
  </gazebo>
  <joint name="jtoe1" type="fixed">
    <parent link="lower1"/>
    <child link="toe1"/>
    <origin xyz="0.206 0 -0.0"/>
    <dynamics damping="0.0" friction="0.0"/>
  </joint>
  <gazebo reference="jtoe1">
    <disableFixedJointLumping>1</disableFixedJointLumping>
    <preserveFixedJoint>1</preserveFixedJoint>
  </gazebo>
  <joint name="jtoe2" type="fixed">
    <parent link="lower2"/>
    <child link="toe2"/>
    <origin xyz="0.206 0 -0.0"/>
    <dynamics damping="0.0" friction="0.0"/>
  </joint>
  <gazebo reference="jtoe2">
    <disableFixedJointLumping>1</disableFixedJointLumping>
    <preserveFixedJoint>1</preserveFixedJoint>
  </gazebo>
  <joint name="jtoe3" type="fixed">
    <parent link="lower3"/>
    <child link="toe3"/>
    <origin xyz="0.206 0 -0.0"/>
    <dynamics damping="0.0" friction="0.0"/>
  </joint>
  <gazebo reference="jtoe3">
    <disableFixedJointLumping>1</disableFixedJointLumping>
    <preserveFixedJoint>1</preserveFixedJoint>
  </gazebo>
  <joint name="imu_joint" type="fixed">
    <parent link="body"/>
    <child link="imu::link"/>
  </joint>
  <gazebo reference="imu_joint">
    <disableFixedJointLumping>1</disableFixedJointLumping>
    <preserveFixedJoint>1</preserveFixedJoint>
  </gazebo>
  <!--    CUSTOMIZED SECTIONS	ABOVE. NOT FROM GHOST ROBOTICS.    -->
  <!-- Add ros_control plugin -->
  <gazebo>
    <plugin filename="libgazebo_ros_control.so" name="gazebo_ros_control">
      <!-- <robotNamespace>/spirit</robotNamespace> -->
      <controlPeriod>0.002</controlPeriod>
    </plugin>
    <plugin filename="libground_truth_estimator.so" name="ground_truth_estimator">
      <updateRateHZ>500.0</updateRateHZ>
      <!-- <robotNamespace>/</robotNamespace> -->
    </plugin>
  </gazebo>
</robot>
<!-- 
	<joint name="spine" type="revolute">
   		<parent link="body"/>
    	<child link="body2"/>
    	<axis xyz="0 1 0"/>
    	<origin xyz="${neckAttachmentX} 0 0"/>
    	<origin xyz="0 0 0"/>
    	<limit effort="35" lower="-1.57" upper="-1.57" velocity="1000000"/>
    	<dynamics damping="0.0" friction="0.0"/>
  	</joint>
	//Transmission elements required for Gazebo
  	<transmission name="transmission_spine">
    	<type>transmission_interface/SimpleTransmission</type>
    	<joint name="spine">
      		<hardwareInterface>hardware_interface/EffortJointInterface</hardwareInterface>
    	</joint>
    	<actuator name="motor_spine">
      		<hardwareInterface>EffortJointInterface</hardwareInterface>
      		<mechanicalReduction>1</mechanicalReduction>
    	</actuator>
  	</transmission> -->
